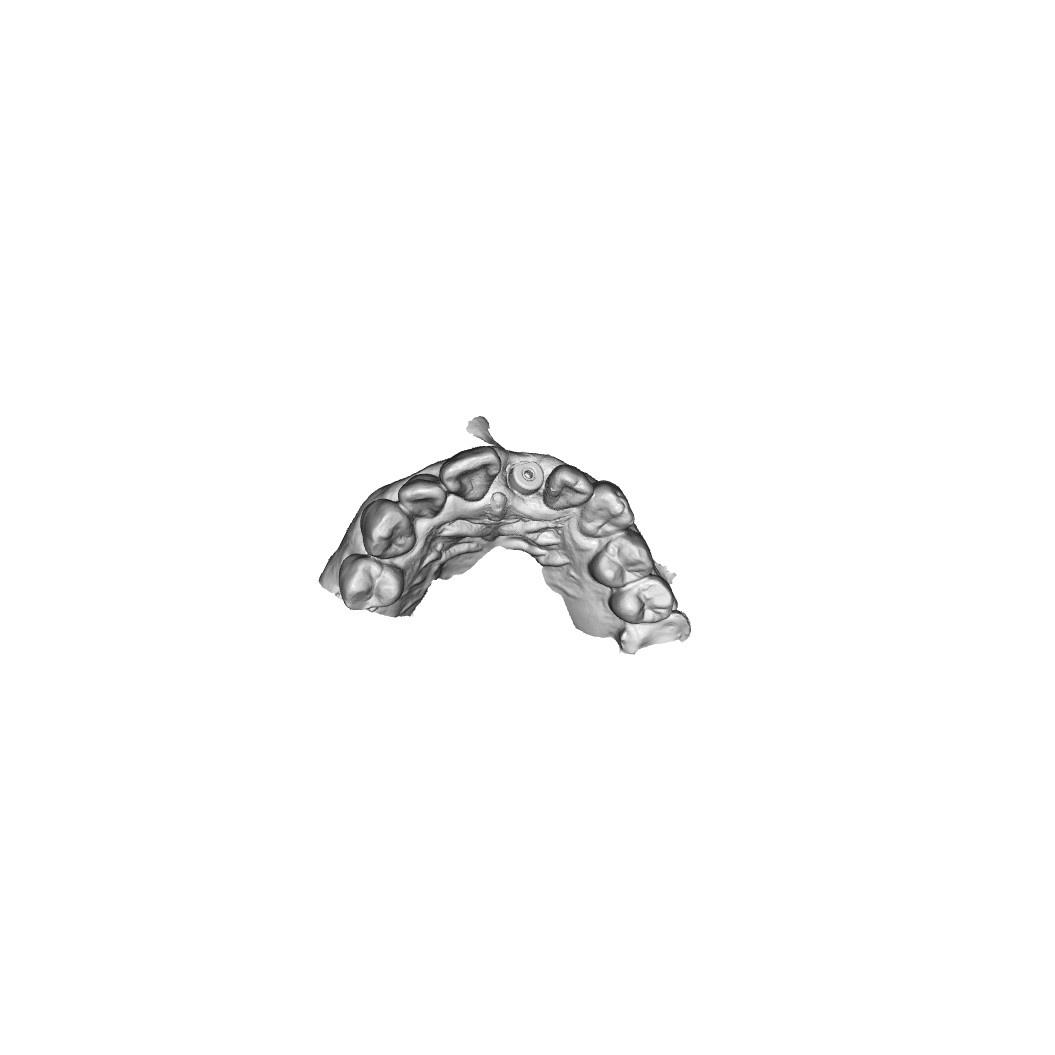canine: (361, 502, 415, 556), (583, 486, 636, 538)
implant: (501, 456, 549, 497)
incisor: (446, 449, 504, 506), (552, 464, 593, 513), (401, 475, 443, 515)
premolar: (333, 553, 404, 613), (588, 531, 657, 588), (608, 578, 676, 629)
